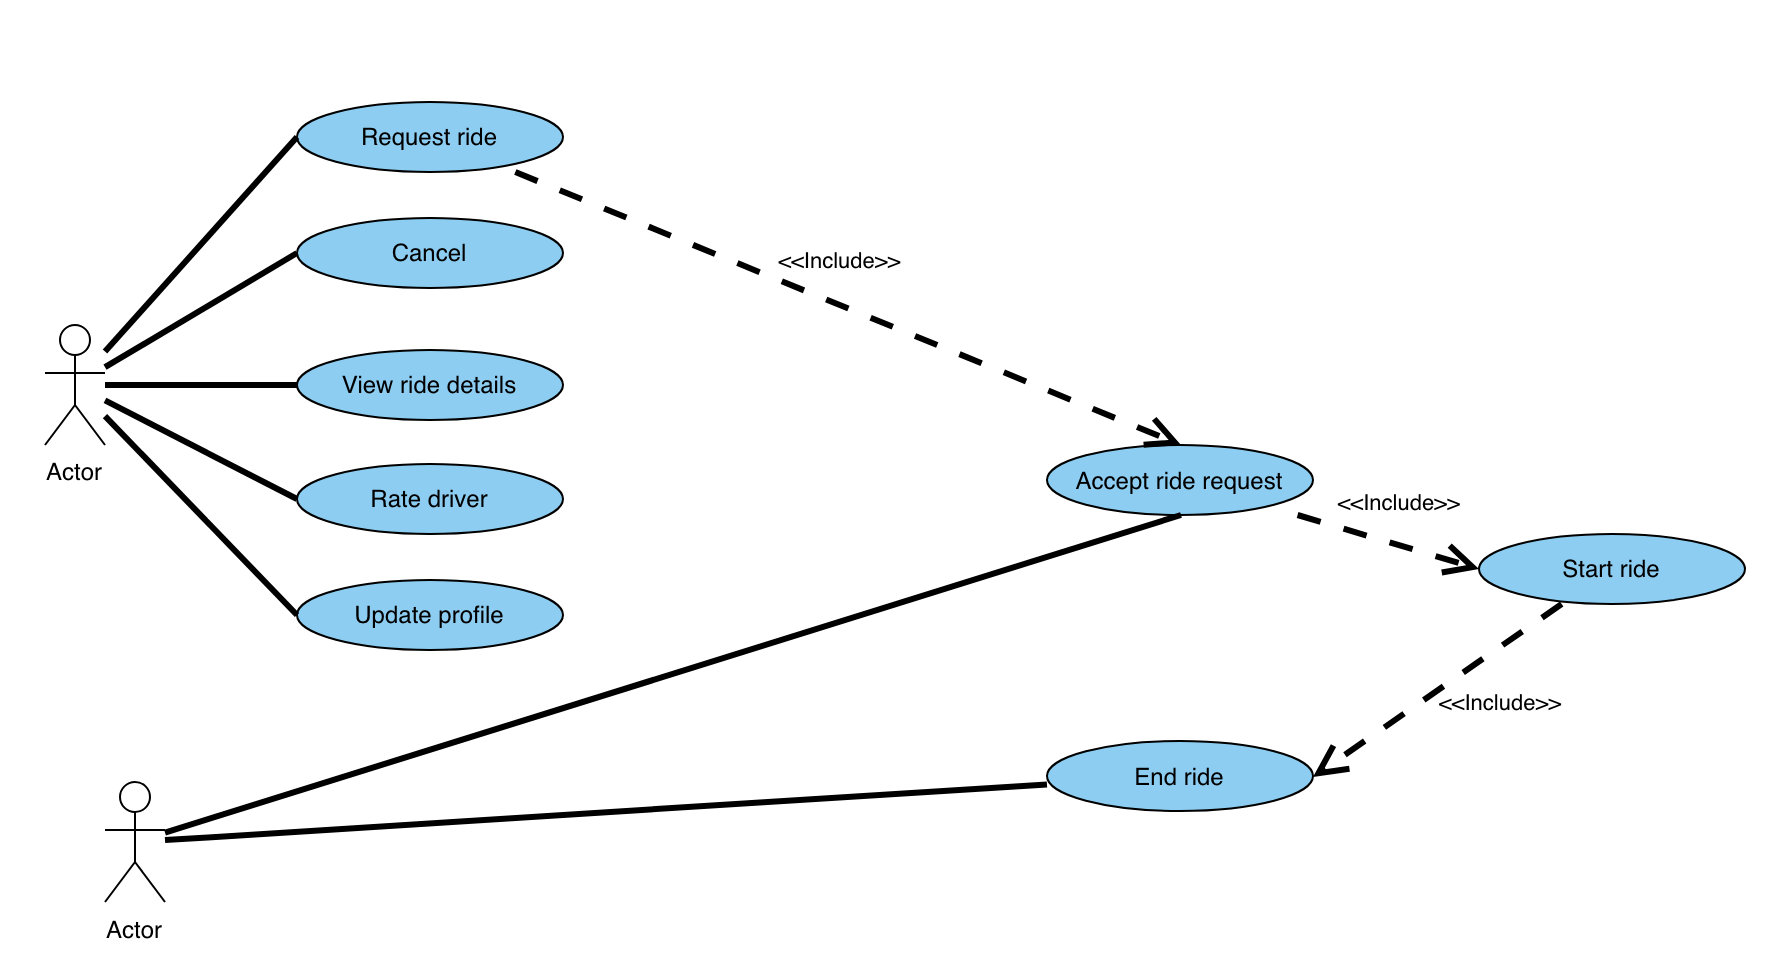actor: (94, 775, 171, 915), (38, 321, 113, 458)
association: (166, 511, 1185, 833), (514, 168, 1180, 453), (161, 775, 1048, 846), (1312, 599, 1567, 778), (105, 136, 297, 354), (105, 415, 297, 613), (107, 249, 295, 367), (107, 399, 296, 501), (1294, 501, 1476, 581), (108, 370, 298, 402)
text: (343, 594, 509, 639), (345, 115, 510, 158), (1072, 464, 1285, 495), (338, 367, 521, 402), (356, 477, 499, 519), (1544, 547, 1681, 586), (775, 238, 905, 277), (1334, 487, 1469, 521), (1125, 759, 1238, 795), (374, 235, 486, 270), (1437, 692, 1568, 716), (46, 460, 115, 488), (103, 919, 171, 947)
use_case: (293, 576, 566, 658), (1046, 735, 1316, 816), (294, 98, 568, 175), (295, 461, 567, 538), (1477, 530, 1747, 607), (294, 216, 566, 291), (298, 346, 564, 423), (1045, 443, 1318, 518)
